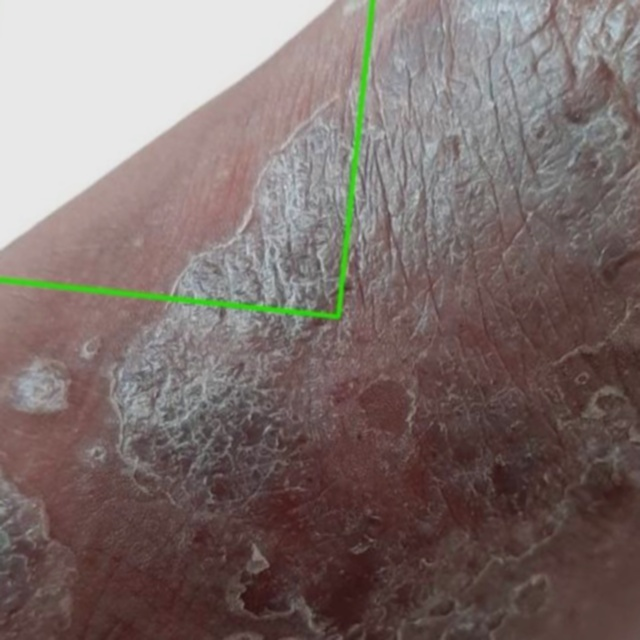Contact Dermatitis: (0, 0, 372, 316)
